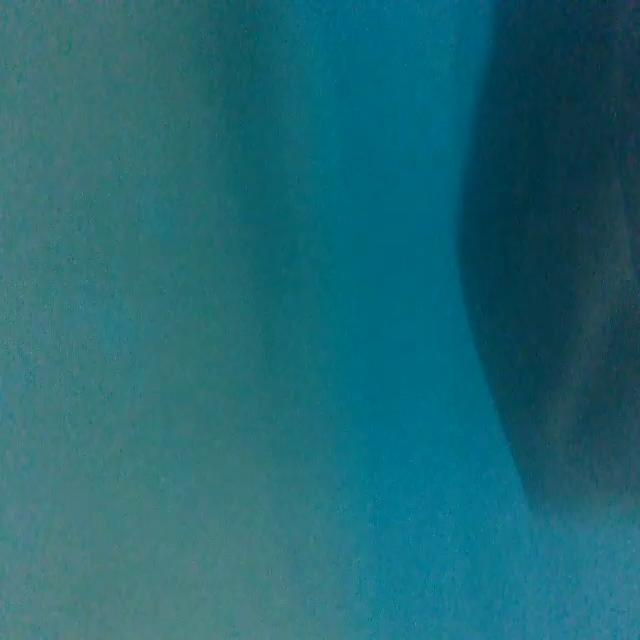plastic bags: (453, 3, 640, 520)
